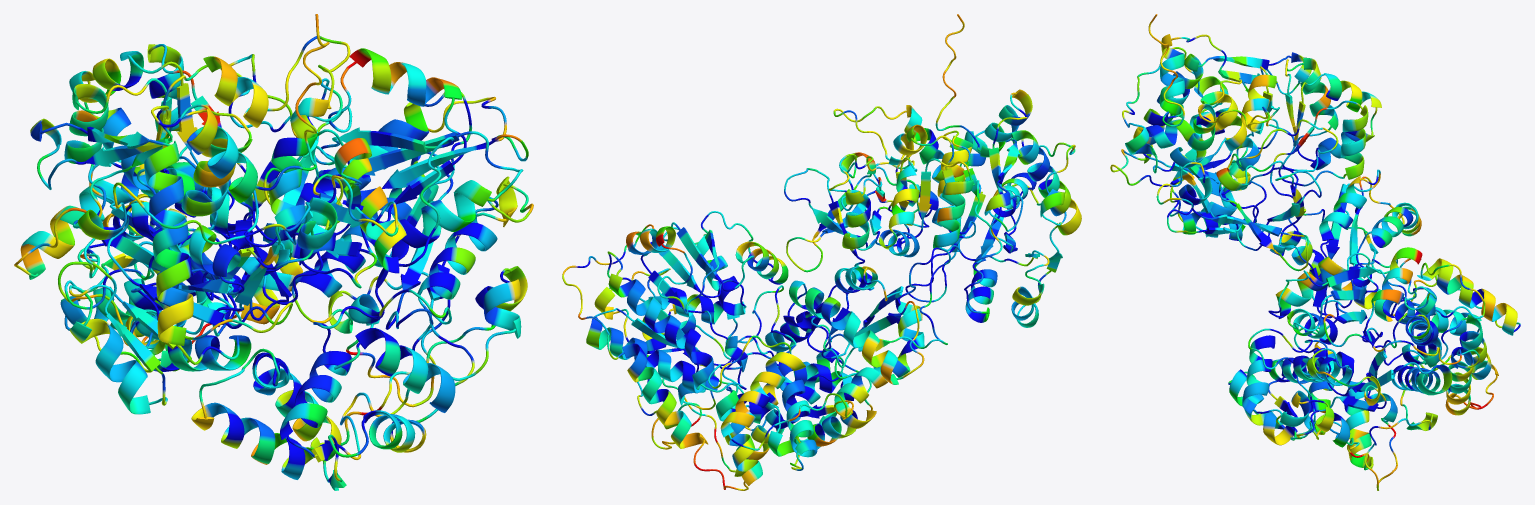
The model's file is overview_obj1.gltf.
3 views of the same model, side by side, from view 1: azimuth 30°, elevation 25°; view 2: azimuth 150°, elevation 25°; view 3: azimuth 270°, elevation 25° (orthographic). The views are drawn at different scales.
Visible parts, largest first — view 1: node-geom0, node-geom1, node-geom5, node-geom7, node-geom2, node-geom6, node-geom3, node-geom4, node-geom8; view 2: node-geom5, node-geom4, node-geom3, node-geom0, node-geom2, node-geom6, node-geom1, node-geom7, node-geom8; view 3: node-geom2, node-geom5, node-geom1, node-geom0, node-geom7, node-geom3, node-geom4, node-geom6, node-geom8.
Part boxes in pixels (box(x1,y1,x2,y2)): node-geom0: box(30, 14, 329, 371); node-geom1: box(69, 36, 350, 414); node-geom5: box(241, 48, 528, 324); node-geom7: box(191, 176, 533, 490); node-geom2: box(64, 44, 398, 288); node-geom6: box(264, 92, 471, 462); node-geom3: box(14, 78, 342, 354); node-geom4: box(58, 190, 327, 372); node-geom8: box(334, 288, 521, 412); node-geom5: box(562, 211, 788, 448); node-geom4: box(645, 298, 924, 490); node-geom3: box(783, 168, 950, 415); node-geom0: box(935, 14, 1081, 322); node-geom2: box(786, 152, 1001, 272); node-geom6: box(586, 251, 854, 449); node-geom1: box(833, 105, 1075, 327); node-geom7: box(594, 268, 876, 476); node-geom8: box(672, 304, 831, 359); node-geom2: box(1156, 57, 1381, 271); node-geom5: box(1268, 247, 1479, 415); node-geom1: box(1122, 47, 1331, 250); node-geom0: box(1110, 14, 1311, 240); node-geom7: box(1228, 326, 1386, 470); node-geom3: box(1235, 167, 1421, 319); node-geom4: box(1286, 232, 1520, 414); node-geom6: box(1248, 313, 1452, 490); node-geom8: box(1242, 335, 1310, 426).
Bounding box in the file's own units: 92.32 × 92.66 × 85.74.
